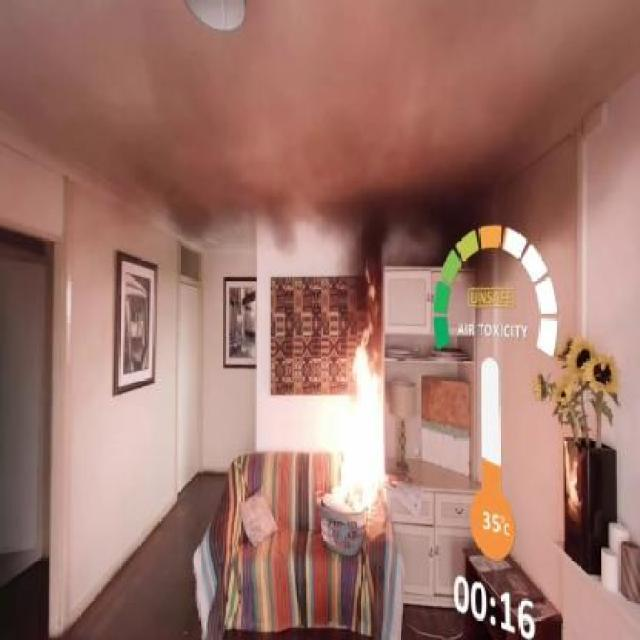fire: (308, 370, 418, 553)
